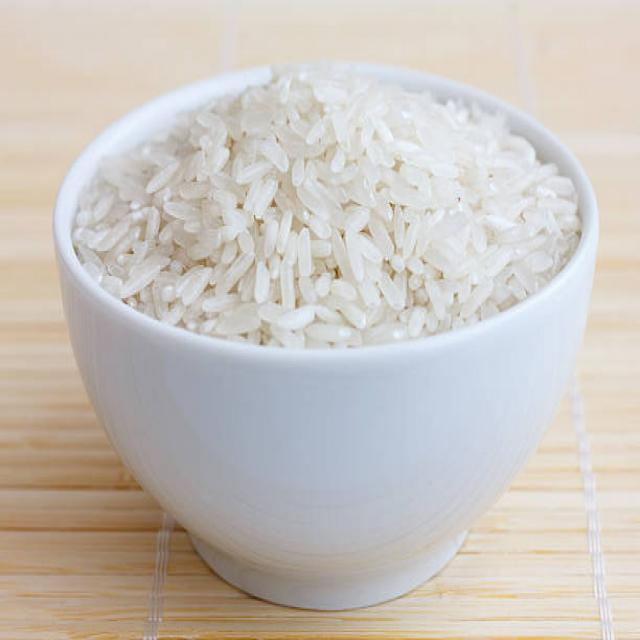rice: (71, 59, 583, 350)
